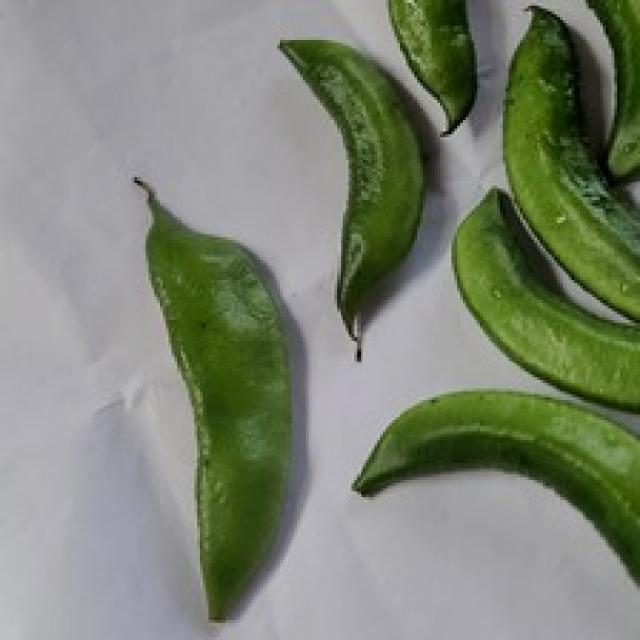Bean: (128, 174, 292, 623), (274, 34, 426, 357), (500, 3, 637, 334), (449, 183, 637, 414), (385, 0, 477, 134), (574, 0, 637, 180)
